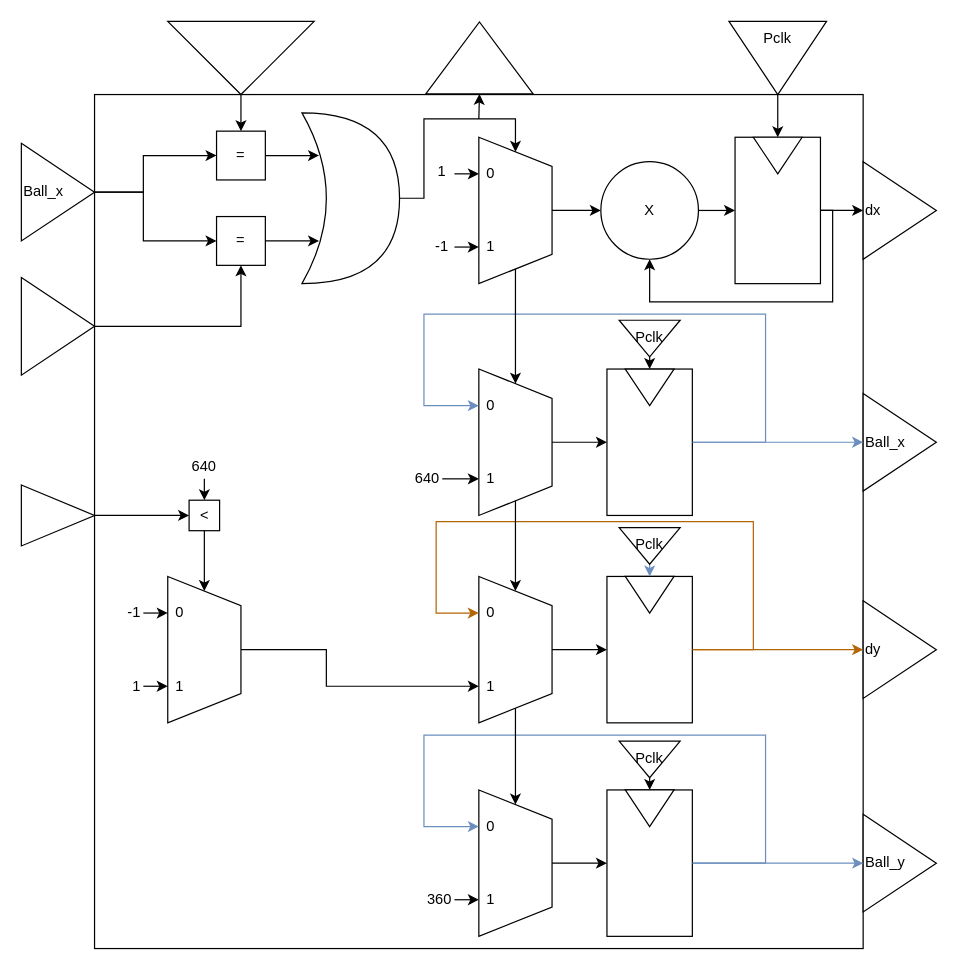
The diagram is 958 pixels wide and 970 high, and some of its shapes have lost their labels. The shapes that lost their labels are listed below. From the top down, each one's centre as x and y in pixels, then its label:
At [240,57]: "1279- ball_rad".
At [479,57]: "Point Scored".
At [57,325]: "Ball_rad".
At [57,515]: "hcount".
